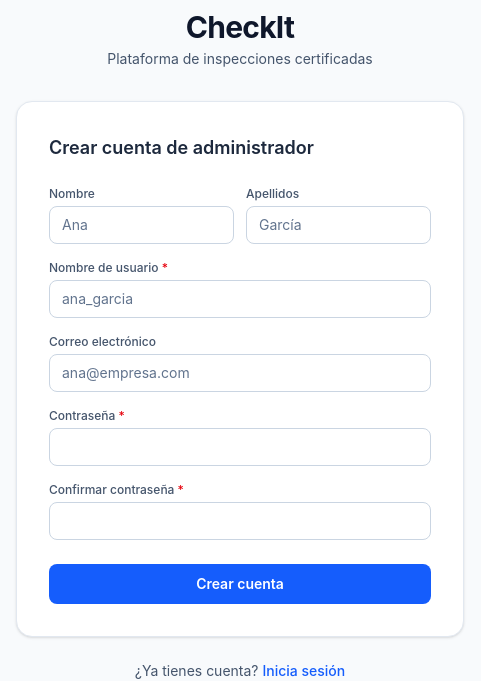
Alta por invitación (B3) › muestra el error de un campo junto a ese campo
The width and height of the screenshot is (481, 681).
Type "ana" into the field labelled "Nombre de usuario *". click: (240, 299)
box: [49,280,431,318]
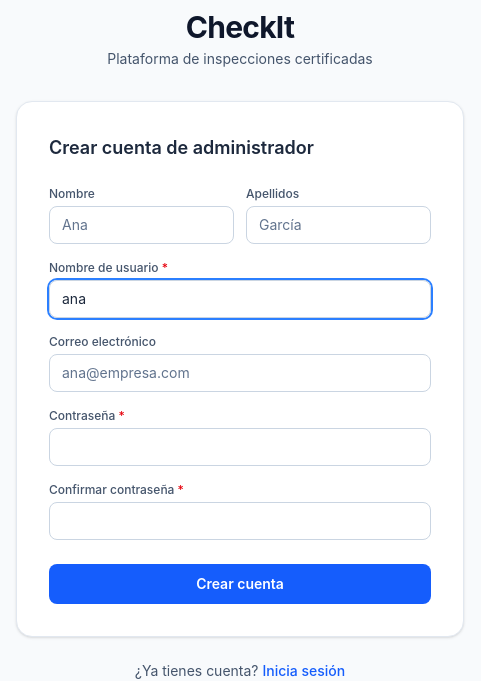
Type "SecurePass123!" into the password field labelled "Contraseña *". click: (240, 447)
box: [49,428,431,466]
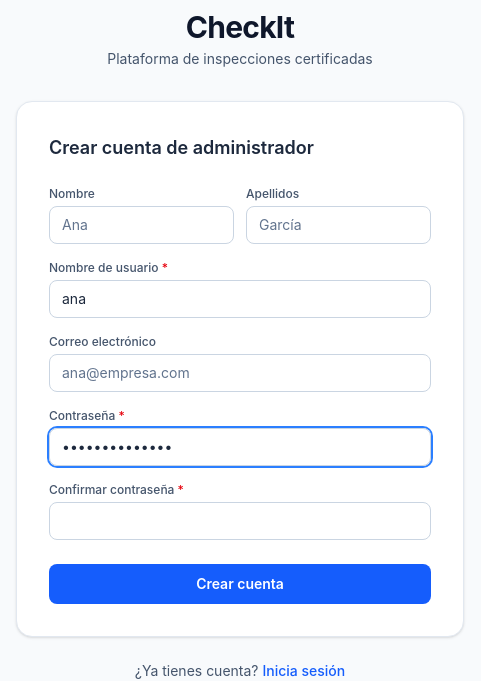
Type "SecurePass123!" into the password field labelled "Confirmar contraseña *". click: (240, 521)
box: [49,502,431,540]
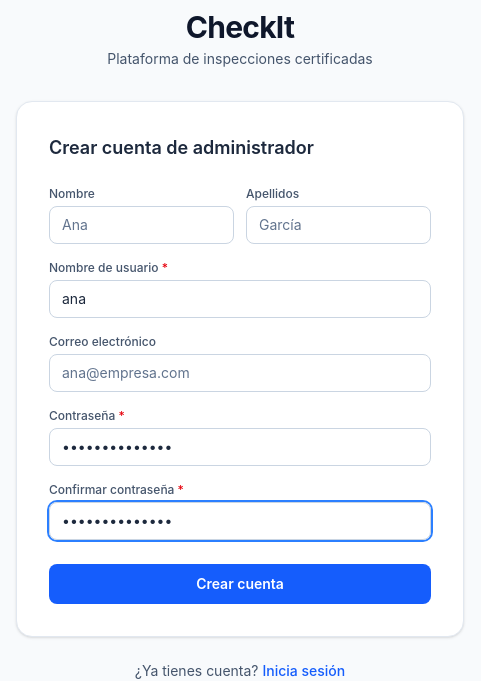
Click the button "Crear cuenta". click: (240, 584)
box: [49,564,431,604]
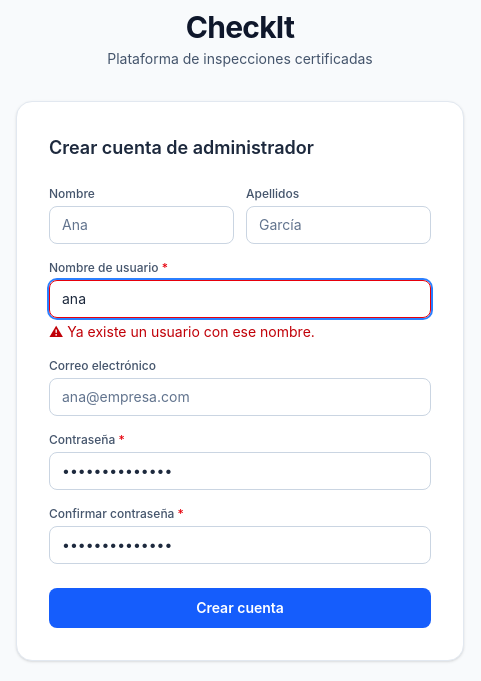
Now the text "⚠ Ya existe un usuario con ese nombre." is shown, box [49,323,315,340]
